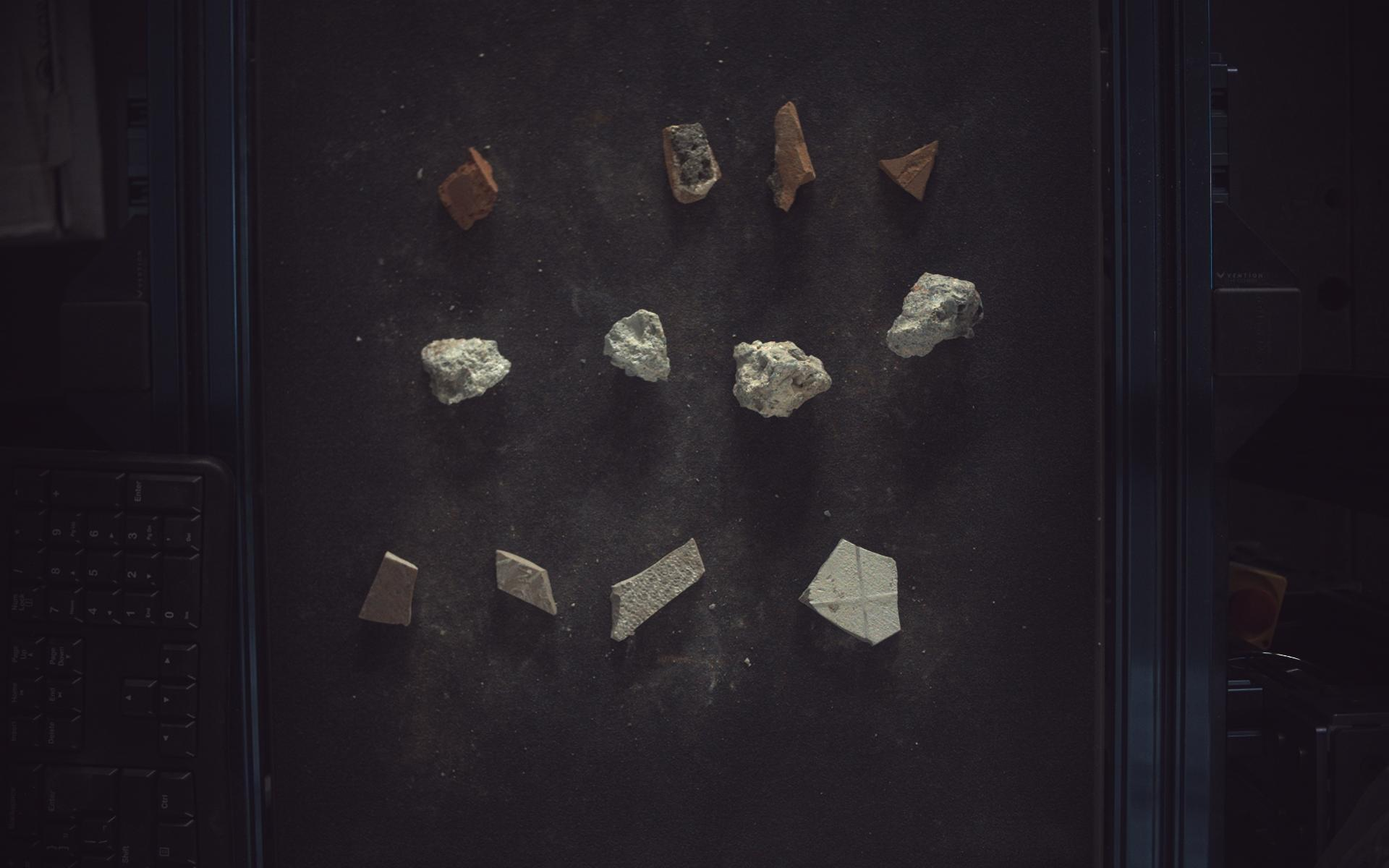brick: (768, 101, 817, 210), (438, 147, 498, 229), (663, 122, 722, 203), (880, 140, 940, 200)
concrete: (888, 273, 986, 357), (734, 340, 833, 418), (422, 338, 511, 404), (605, 309, 671, 382)
tile: (801, 540, 902, 645), (611, 539, 705, 642), (358, 552, 417, 626), (496, 550, 557, 615)
